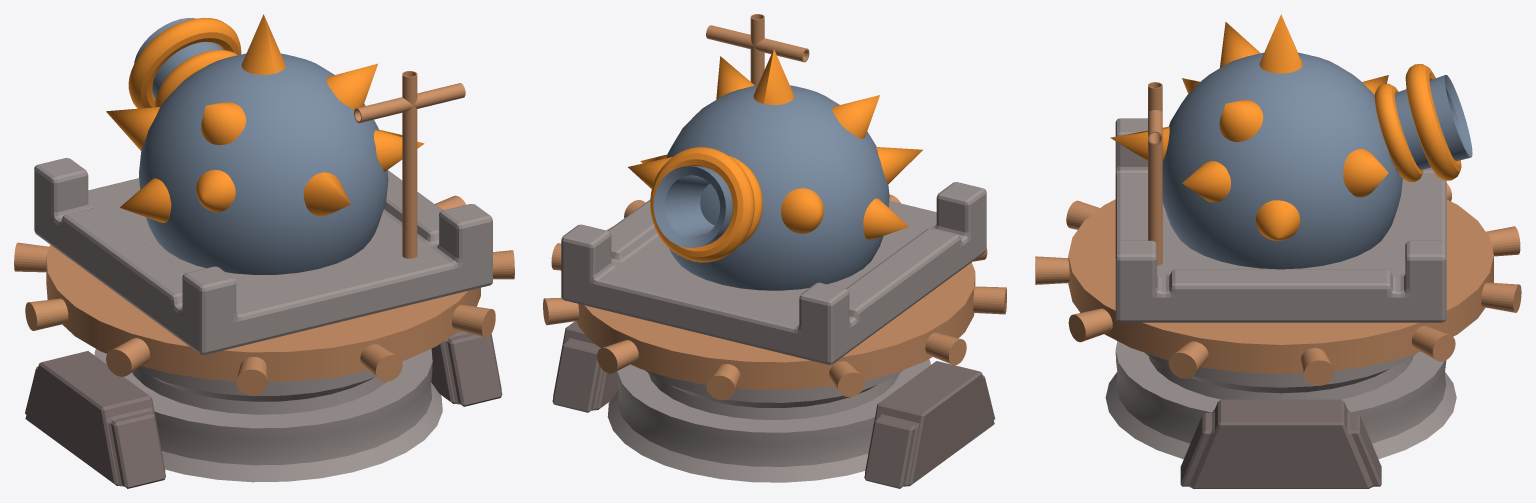
Rendered from towerModel.fbx.
3 views of the same model, side by side, from view 1: azimuth 30°, elevation 25°; view 2: azimuth 150°, elevation 25°; view 3: azimuth 270°, elevation 25° (orthographic). The views are drawn at different scales.
Visible parts, largest first — view 1: base.001; view 2: base.001; view 3: base.001.
Part boxes in pixels (x1,y1,x2,y2): base.001: [14, 14, 514, 488]; base.001: [543, 14, 1006, 488]; base.001: [1035, 14, 1521, 488].
Size of the model in its own units: 296 by 256 by 294.
